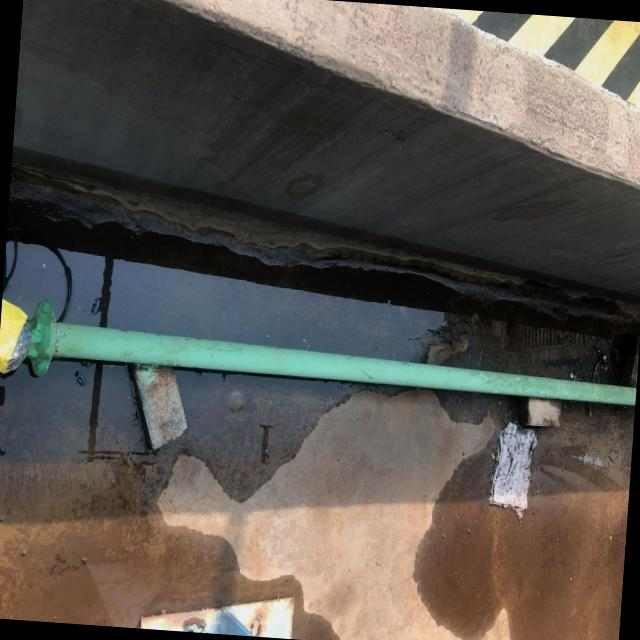gas: (0, 294, 639, 413)
